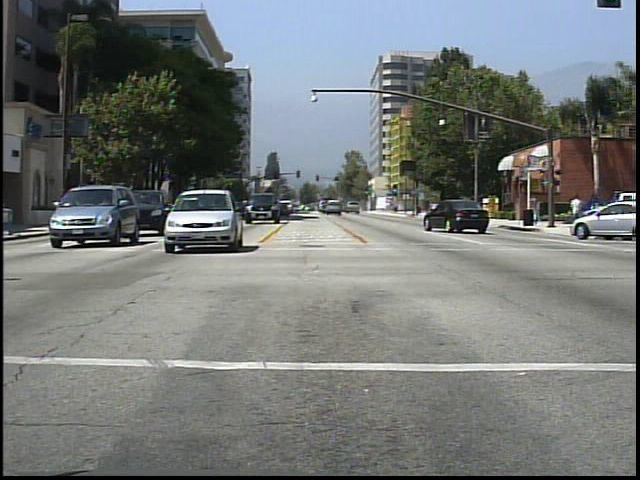person: (568, 191, 587, 220), (530, 193, 543, 227)
